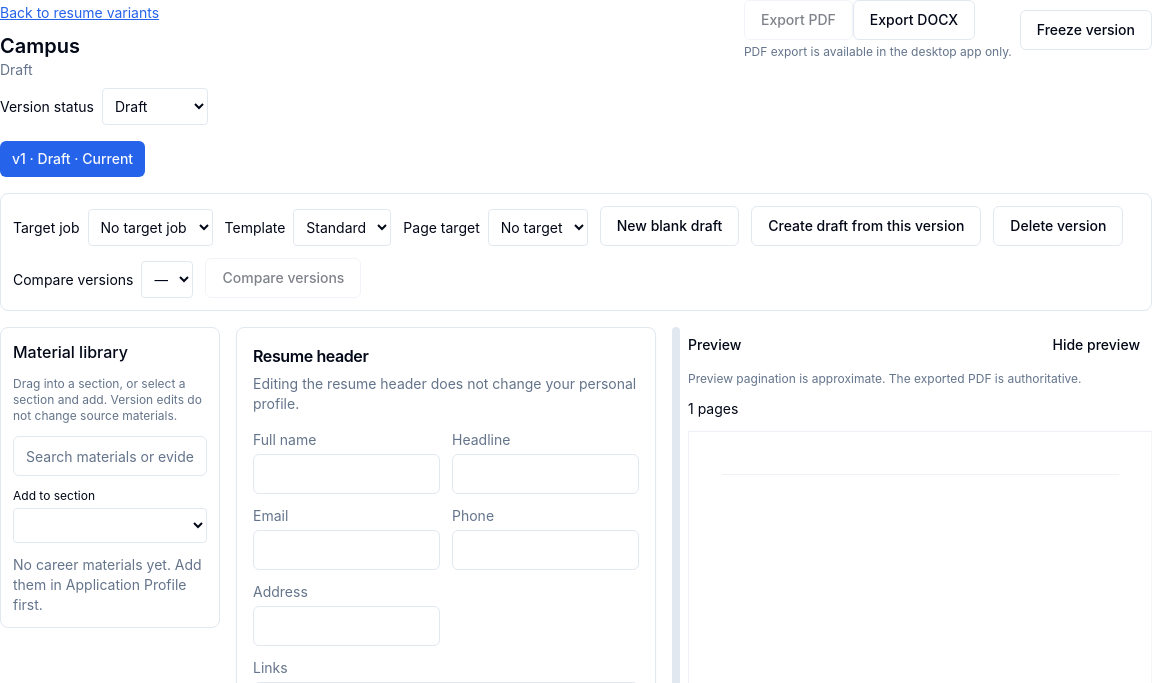
Test case: Resume Variant V1 product polish UI › uses freeze confirmation copy instead of permanent-delete wording
This screenshot has width=1152, height=683.
Click the button "Freeze version".
click(1086, 30)  # box x1=1020 y1=10 x2=1151 y2=50
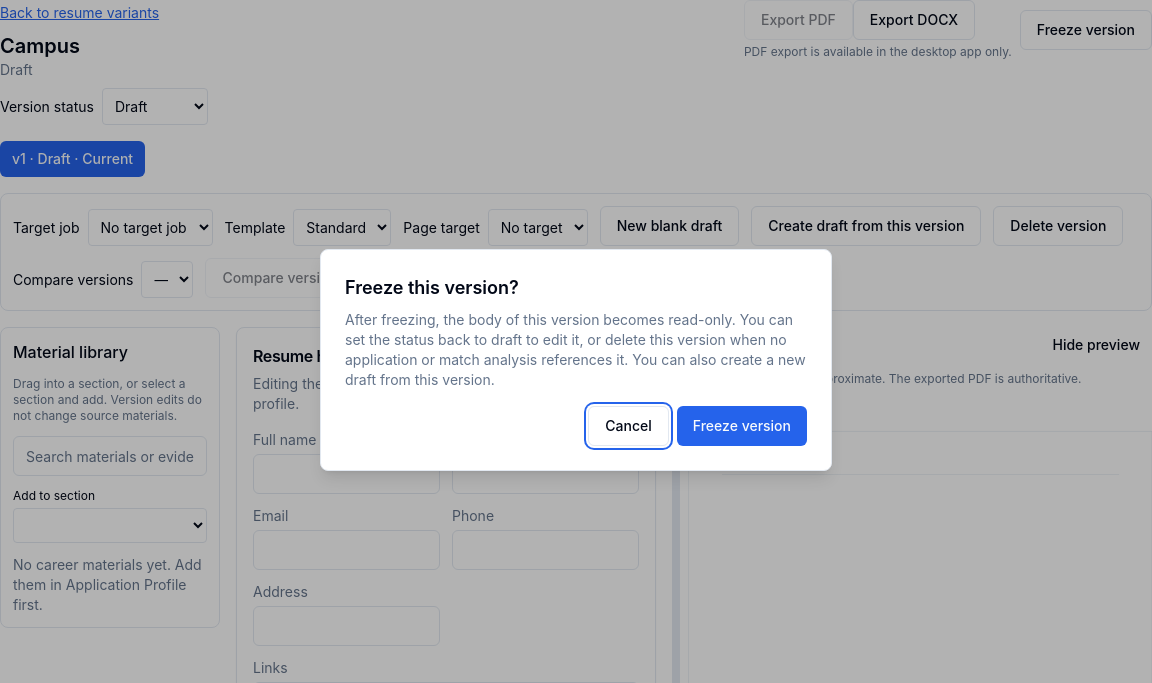
expect the heading "Freeze this version?" is shown: met, box x1=345 y1=277 x2=519 y2=298
expect the dialog shows "read-only": met, box x1=345 y1=311 x2=806 y2=388
expect the dialog shows "draft": met, box x1=345 y1=311 x2=806 y2=388
